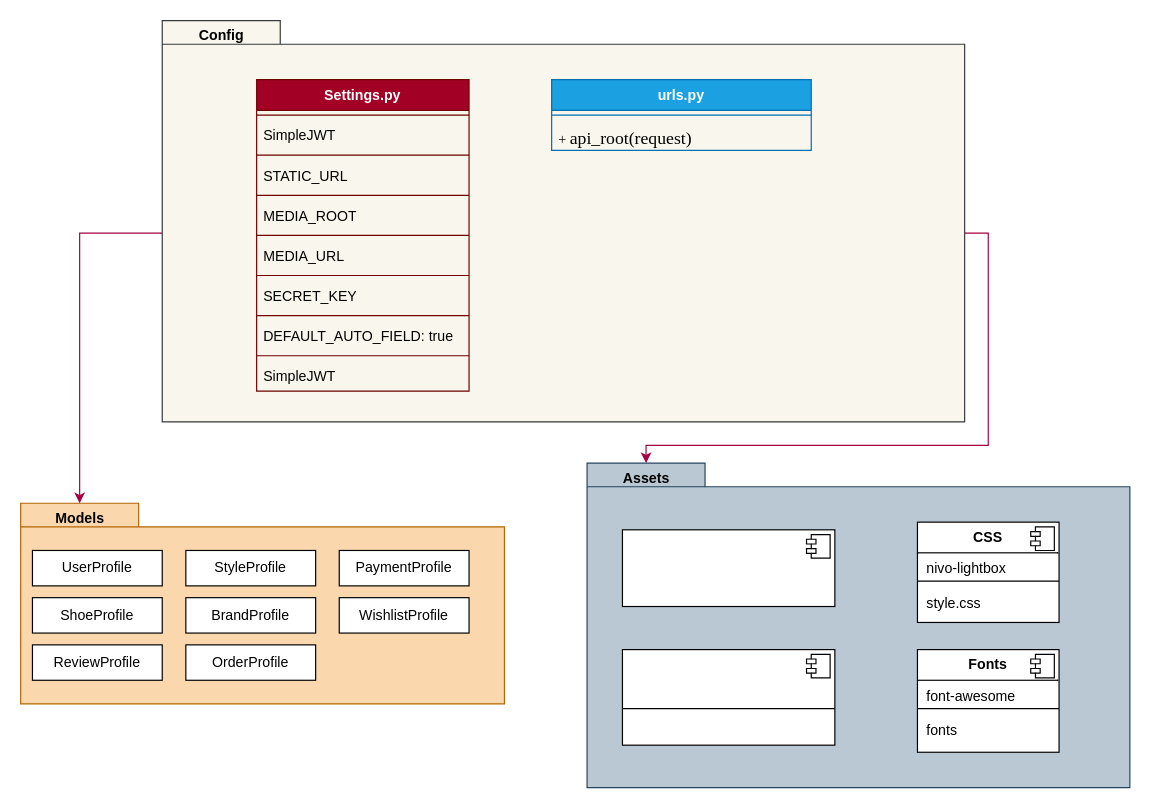
This 1151x808 diagram has some shape labels left out. Each missing label, with the centre of its shape:
"js jquery.1.1.1.js bootstrap.js" belongs at [728,696].
"Media Product Images" belongs at [728,568].
